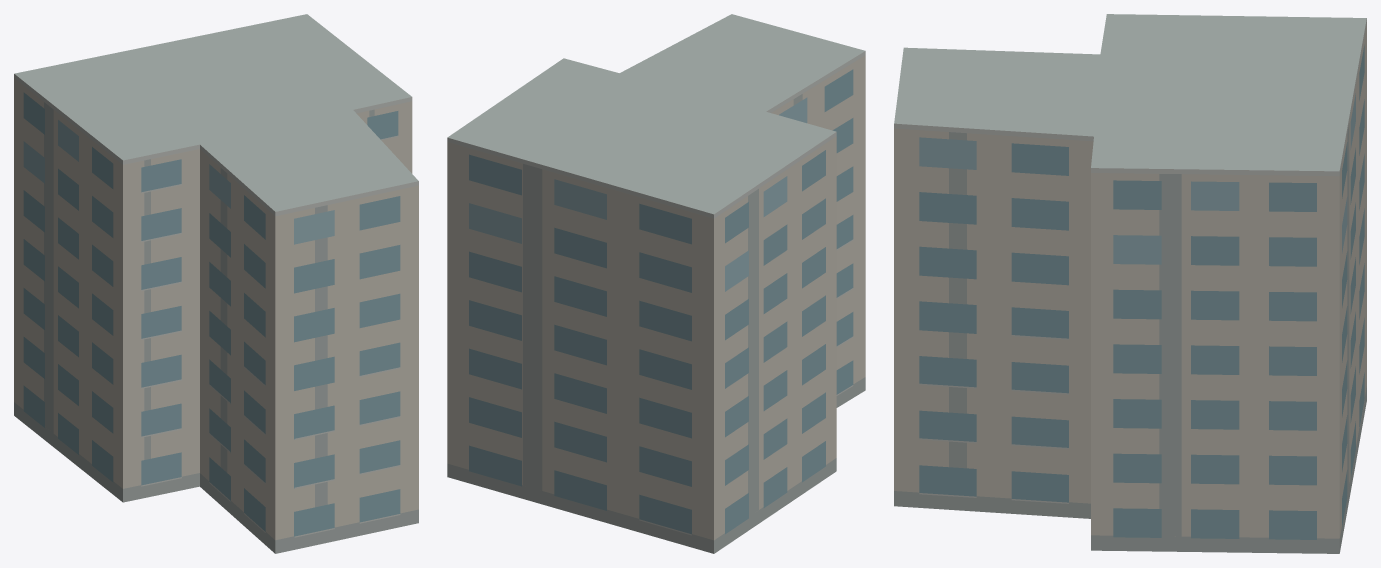
Rendered from survey-upis-32750043.glb.
The picture shows the model from 3 angles, left to right: view 1: azimuth 30°, elevation 25°; view 2: azimuth 150°, elevation 25°; view 3: azimuth 270°, elevation 25°; orthographic projection. The views are drawn at different scales.
Visible parts, largest first — view 1: survey-upis-32750043.tmp; view 2: survey-upis-32750043.tmp; view 3: survey-upis-32750043.tmp.
Part boxes in pixels (x1,y1,x2,y2): survey-upis-32750043.tmp: (14,14,418,553); survey-upis-32750043.tmp: (447,14,865,553); survey-upis-32750043.tmp: (894,14,1366,553).
Size of the model in its own units: 16.85 by 19.1 by 21.4.
